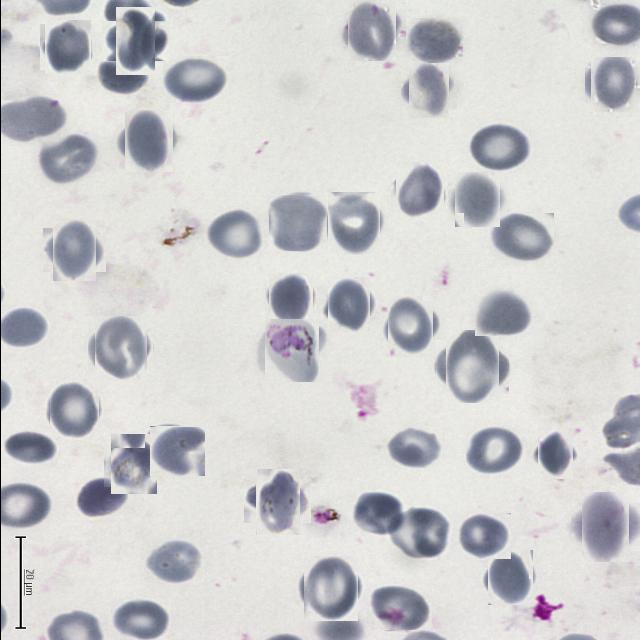red blood cell: (439, 336, 504, 398), (300, 558, 360, 618), (90, 318, 148, 378), (324, 194, 382, 252), (576, 498, 634, 556), (268, 194, 327, 251), (35, 132, 99, 184), (467, 122, 532, 171), (489, 213, 553, 262), (342, 2, 398, 58), (120, 112, 176, 168), (162, 56, 228, 103), (46, 382, 101, 438), (249, 474, 304, 530), (366, 584, 431, 630), (465, 425, 526, 474), (394, 506, 451, 558), (106, 438, 160, 492), (108, 14, 162, 68), (143, 538, 204, 585), (47, 223, 100, 277), (383, 300, 436, 354), (206, 210, 264, 259), (149, 426, 205, 476), (392, 164, 445, 216), (405, 18, 462, 65), (474, 290, 532, 336), (454, 513, 510, 559), (451, 174, 502, 224), (587, 59, 637, 110), (350, 491, 406, 536), (110, 598, 170, 640), (484, 552, 534, 602), (42, 22, 92, 72), (385, 425, 443, 468), (324, 280, 373, 329), (73, 478, 129, 520), (266, 274, 314, 322), (404, 66, 452, 114), (1, 430, 57, 468), (94, 57, 149, 95), (533, 432, 576, 476)
trophozoite: (262, 320, 321, 380)
